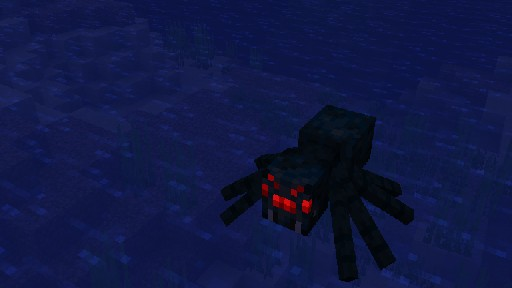cave_spider: (219, 103, 414, 281)
